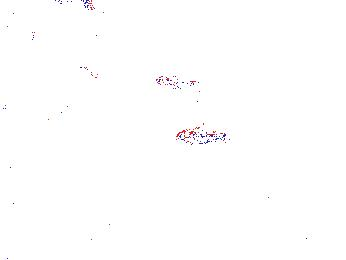red belly glassfish: (175, 124, 230, 147), (154, 73, 200, 91)
redtail glassfish: (1, 20, 50, 46)
